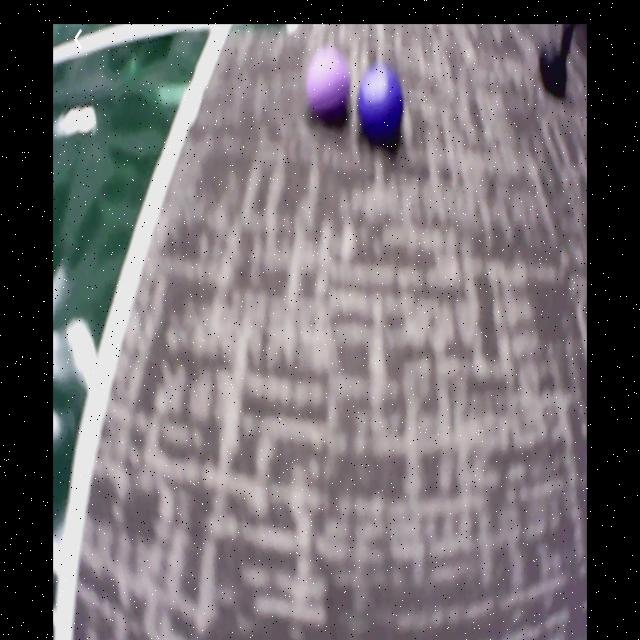ball: (360, 66, 404, 147), (307, 48, 351, 122)
